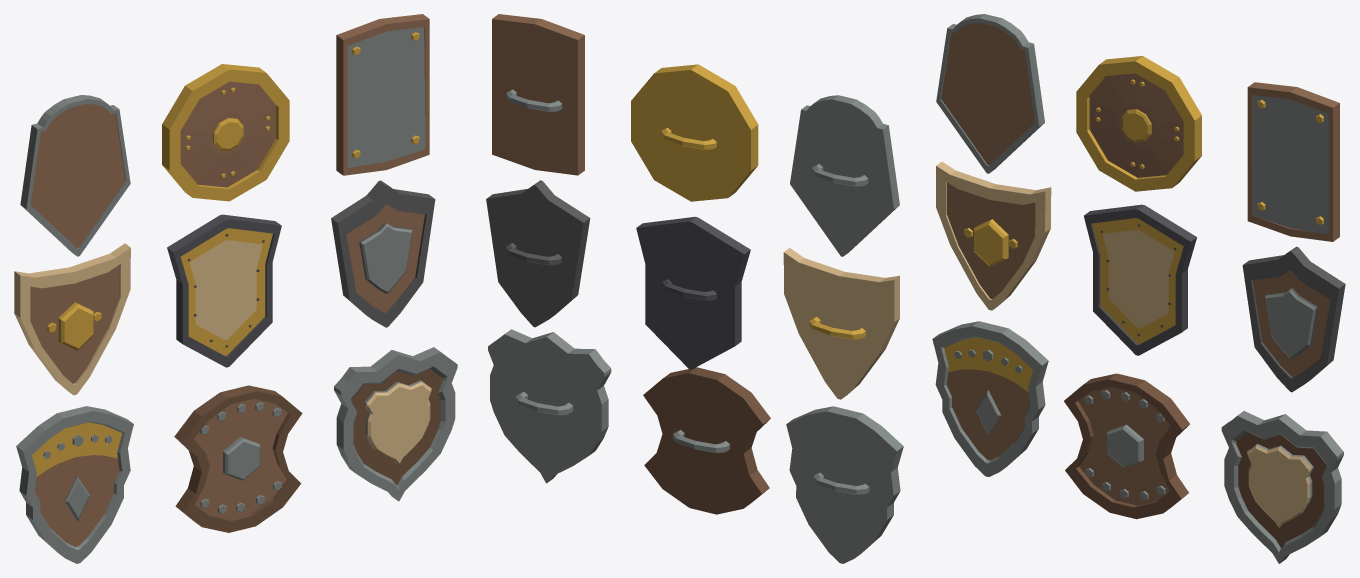
File: Shields Low Poly Asset 2.fbx
The picture shows the model from 3 angles, left to right: view 1: azimuth 30°, elevation 25°; view 2: azimuth 150°, elevation 25°; view 3: azimuth 330°, elevation 25°; orthographic projection.
Visible parts, largest first — view 1: Shield 3, Shield 8, Shield 2, Shield 9, Shield 7, Shield 5, Shield 1, Shield 4, Shield 6; view 2: Shield 3, Shield 8, Shield 2, Shield 9, Shield 7, Shield 5, Shield 1, Shield 4, Shield 6; view 3: Shield 3, Shield 8, Shield 2, Shield 9, Shield 7, Shield 5, Shield 1, Shield 4, Shield 6.
Part boxes in pixels (<box>): Shield 3: <box>336,14,429,175</box>; Shield 8: <box>174,385,302,532</box>; Shield 2: <box>162,64,289,201</box>; Shield 9: <box>334,347,457,501</box>; Shield 7: <box>16,406,133,563</box>; Shield 5: <box>167,214,281,367</box>; Shield 1: <box>20,95,130,256</box>; Shield 4: <box>14,243,130,395</box>; Shield 6: <box>331,180,435,327</box>; Shield 3: <box>492,14,584,175</box>; Shield 8: <box>643,367,770,514</box>; Shield 2: <box>631,64,758,201</box>; Shield 9: <box>488,329,611,483</box>; Shield 7: <box>786,406,903,563</box>; Shield 5: <box>636,216,750,369</box>; Shield 1: <box>790,95,899,256</box>; Shield 4: <box>783,248,899,399</box>; Shield 6: <box>486,180,590,327</box>; Shield 3: <box>1247,82,1339,241</box>; Shield 8: <box>1064,373,1189,519</box>; Shield 2: <box>1076,56,1201,191</box>; Shield 9: <box>1221,411,1343,563</box>; Shield 7: <box>932,321,1048,476</box>; Shield 5: <box>1084,204,1196,355</box>; Shield 1: <box>936,14,1044,173</box>; Shield 4: <box>936,161,1051,310</box>; Shield 6: <box>1242,246,1345,392</box>.
Size of the model in its own units: 828 by 879 by 108.
